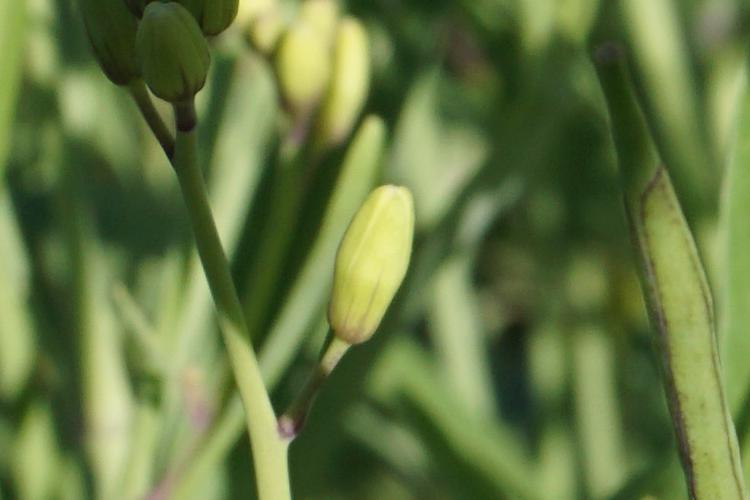bud: (342, 194, 421, 362), (135, 6, 217, 111), (76, 9, 143, 91)
pod: (581, 43, 746, 489)
